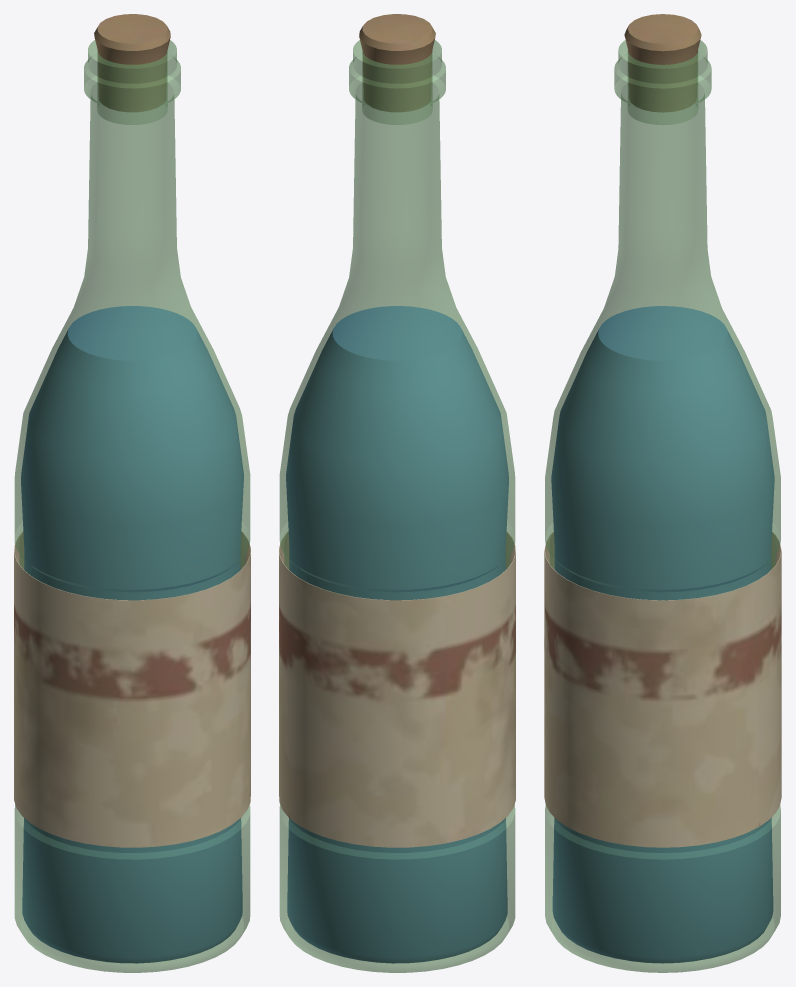
Rendered from garrafa_vidro_agua_limpa.glb.
3 renders of one model, left to right at view 1: azimuth 30°, elevation 25°; view 2: azimuth 150°, elevation 25°; view 3: azimuth 270°, elevation 25°, orthographic.
Parts seen in each view (by area): view 1: casca, agua, rotulo, rolha; view 2: casca, agua, rotulo, rolha; view 3: casca, agua, rotulo, rolha.
Part boxes in pixels (x1,y1,x2,y2): casca: (14,40,250,972); agua: (21,306,243,963); rotulo: (14,531,250,847); rolha: (94,14,170,111); casca: (279,40,515,972); agua: (286,306,508,963); rotulo: (279,531,515,847); rolha: (359,14,435,111); casca: (545,40,780,972); agua: (551,306,774,963); rotulo: (544,532,781,847); rolha: (624,14,701,112).
Bounding box in the file's own units: 0.0713 × 0.2996 × 0.0713.
3 materials, 1 textured.
